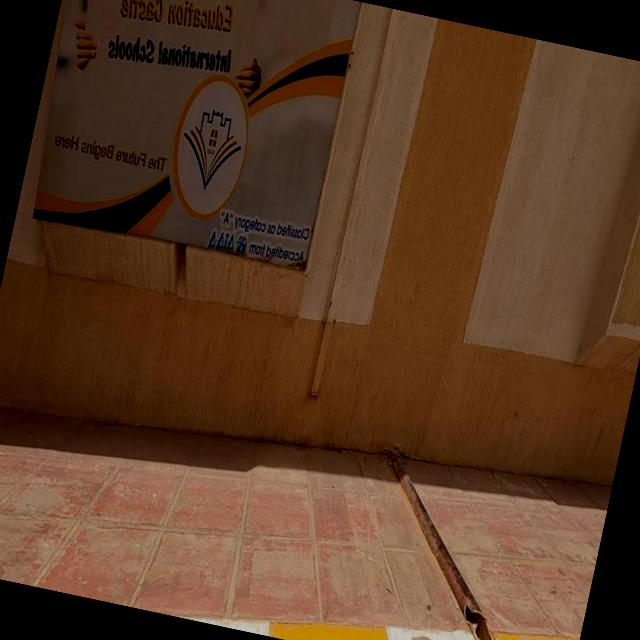debris: (0, 0, 513, 465)
